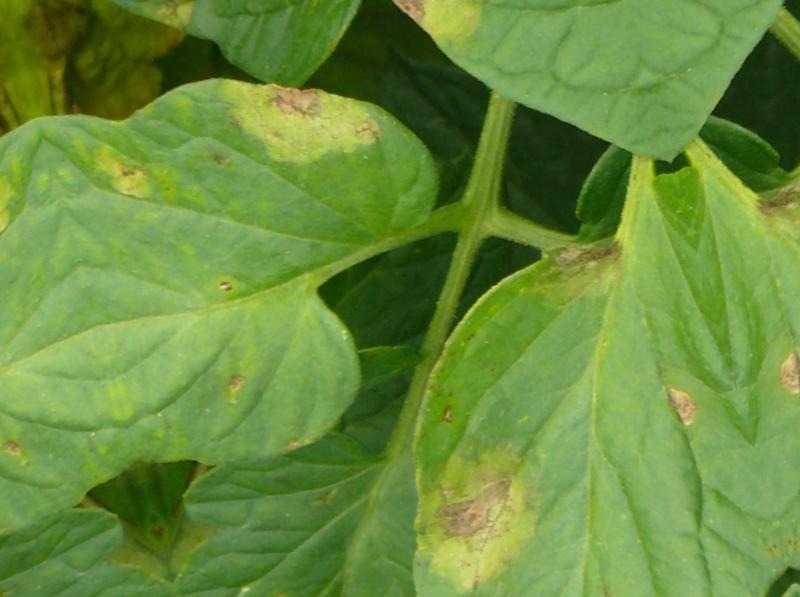Tomato Early blight leaf: (42, 16, 489, 494), (300, 173, 797, 597)
